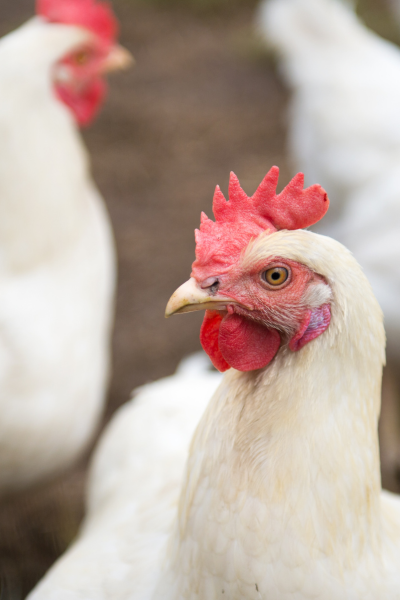Healthy: (144, 159, 397, 581), (4, 3, 148, 505)
